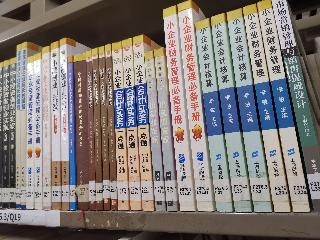book-spine: (254, 0, 312, 214), (266, 0, 320, 213), (222, 8, 274, 216), (241, 4, 290, 214), (206, 14, 254, 214), (172, 1, 216, 213), (190, 18, 233, 213), (159, 5, 197, 212), (127, 34, 156, 211), (119, 39, 142, 212), (153, 48, 177, 212), (143, 50, 165, 211), (71, 54, 91, 211), (111, 42, 129, 210), (103, 43, 118, 212), (47, 41, 62, 209), (57, 38, 71, 211), (97, 45, 111, 210), (89, 47, 103, 211), (41, 46, 52, 213), (32, 52, 43, 210), (0, 59, 11, 210), (86, 49, 96, 211), (25, 55, 35, 210), (66, 54, 76, 209), (14, 43, 22, 210), (9, 58, 16, 209), (22, 42, 27, 209)
